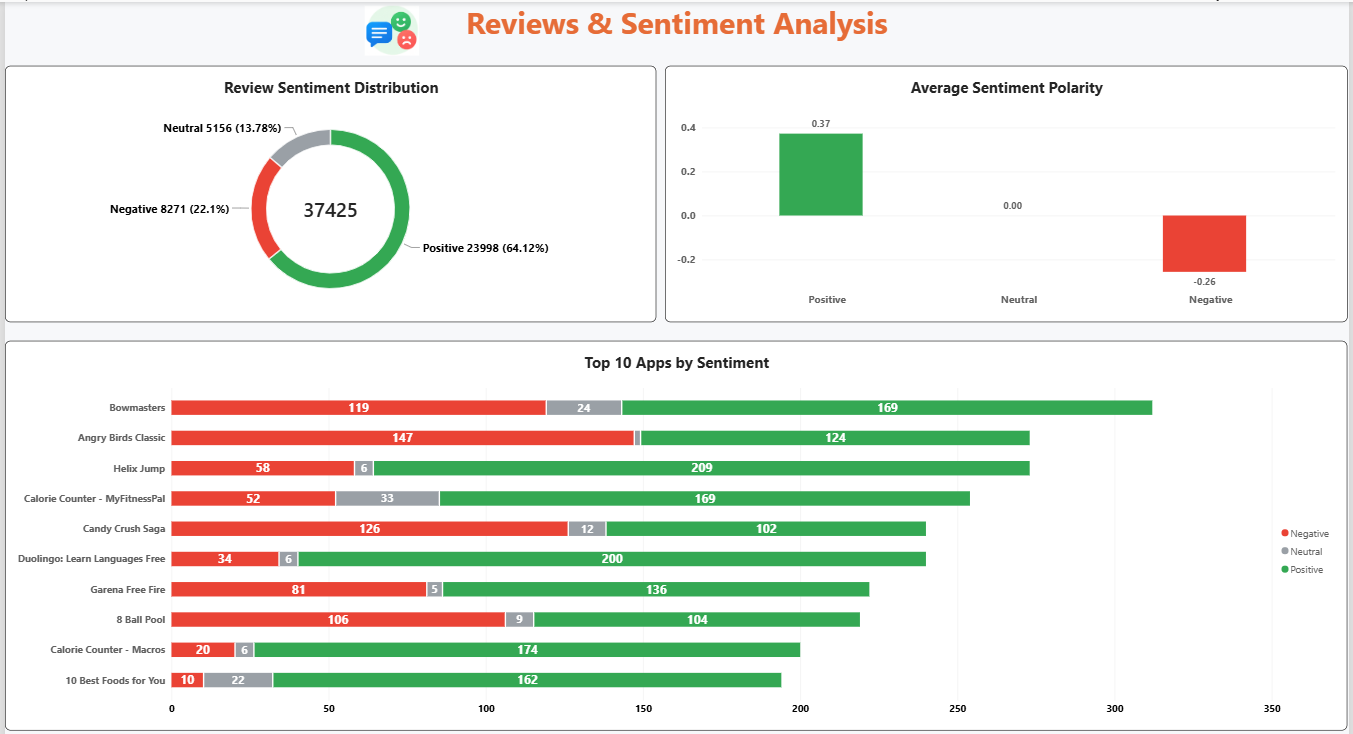

The dashboard page shown, as its layout file describes it:
{"tool":"powerbi","page":{"name":"Reviews & Sentiment","canvas":[1920,1080],"ordinal":3},"visuals":[{"type":"textbox","box":[0,0,1919.7,76.8],"z":0},{"type":"donutChart","title":"Review Sentiment Distribution","fields":{"Category":["googleplaystore_user_reviews.Sentiment"],"Y":["CountNonNull(googleplaystore_user_reviews.Sentiment)"]},"box":[0,91.1,930.4,366.1],"z":1000},{"type":"clusteredColumnChart","title":"Average Sentiment Polarity","fields":{"Category":["googleplaystore_user_reviews.Sentiment"],"Y":["Avg(googleplaystore_user_reviews.Sentiment_Polarity)"]},"box":[942.9,91.1,975,366.1],"z":2000},{"type":"barChart","title":"Top 10 Apps by Sentiment","fields":{"Category":["googleplaystore_user_reviews.App"],"Y":["CountNonNull(googleplaystore_user_reviews.Sentiment)"],"Series":["googleplaystore_user_reviews.Sentiment"]},"box":[0,483.9,1917.9,582.1],"z":3000},{"type":"image","box":[433.9,5.4,237.5,71.4],"z":4000}]}

Visuals, with their boxes on the page's 1920x1080 design canvas (x1, y1, x2, y2). These are canvas units, not pixel positions in the 1353x734 screenshot, which may show the page scaled, cropped or inside an application window:
textbox: (x1=0, y1=0, x2=1920, y2=77)
"Review Sentiment Distribution" donutChart: (x1=0, y1=91, x2=930, y2=457)
"Average Sentiment Polarity" clusteredColumnChart: (x1=943, y1=91, x2=1918, y2=457)
"Top 10 Apps by Sentiment" barChart: (x1=0, y1=484, x2=1918, y2=1066)
image: (x1=434, y1=5, x2=671, y2=77)
